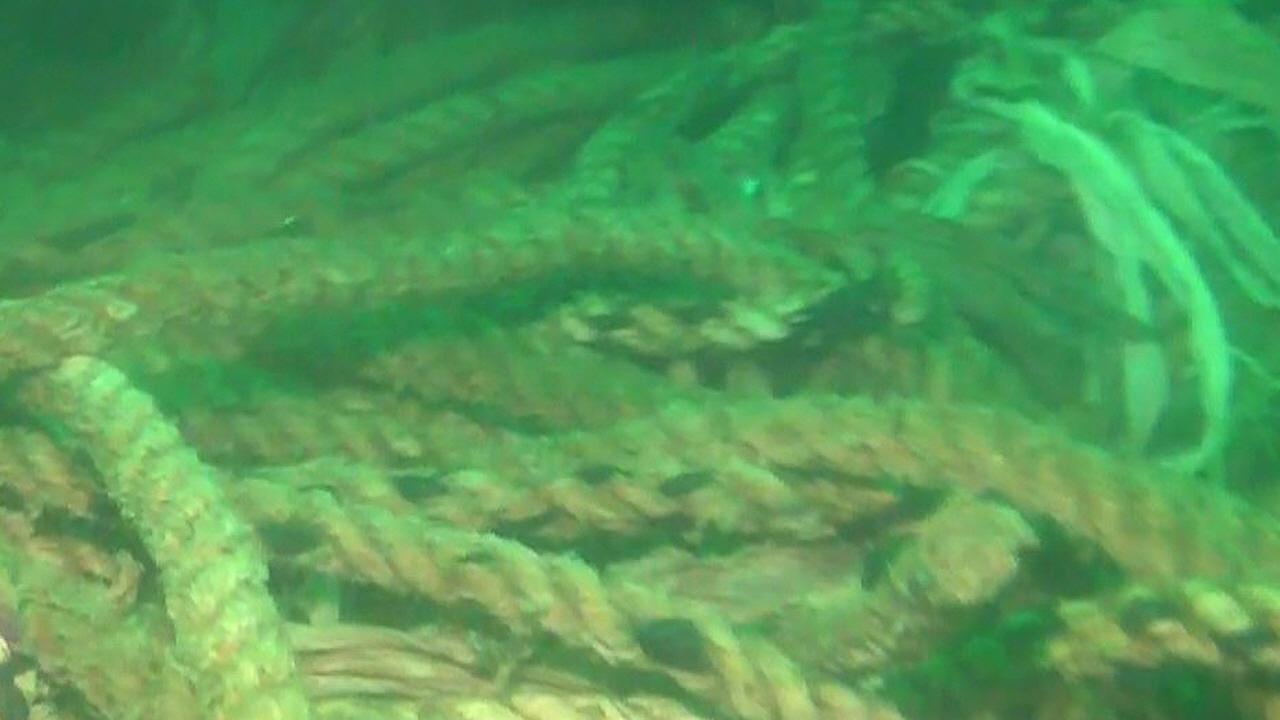bundle of ropes: (0, 1, 1280, 719)
